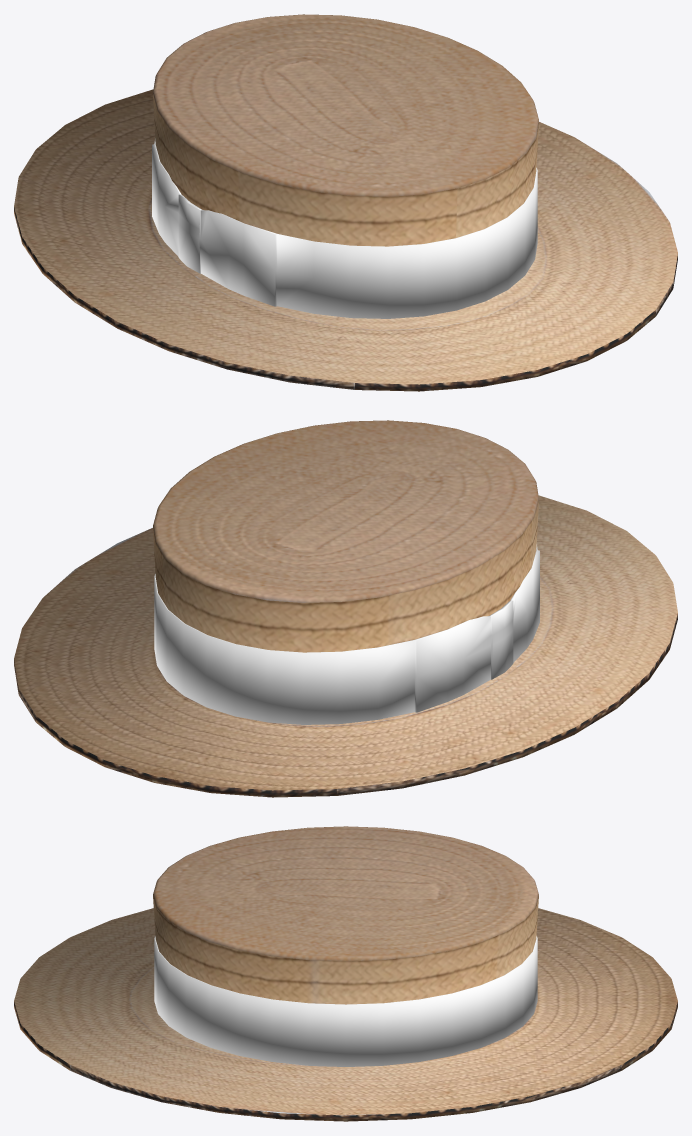
Rendered from Boater_v1.gltf.
3 renders of one model, top to bottom at view 1: azimuth 30°, elevation 25°; view 2: azimuth 150°, elevation 25°; view 3: azimuth 270°, elevation 25°, orthographic. The views are drawn at different scales.
Visible parts, largest first — view 1: Cylinder; view 2: Cylinder; view 3: Cylinder.
Boxes of the visible parts, x1,y1,x2,y2 form: Cylinder: (14,14,677,391); Cylinder: (14,420,677,797); Cylinder: (14,826,677,1121).
Bounding box in the file's own units: 4.11 × 0.9664 × 5.04.
3 materials, 2 textured.
